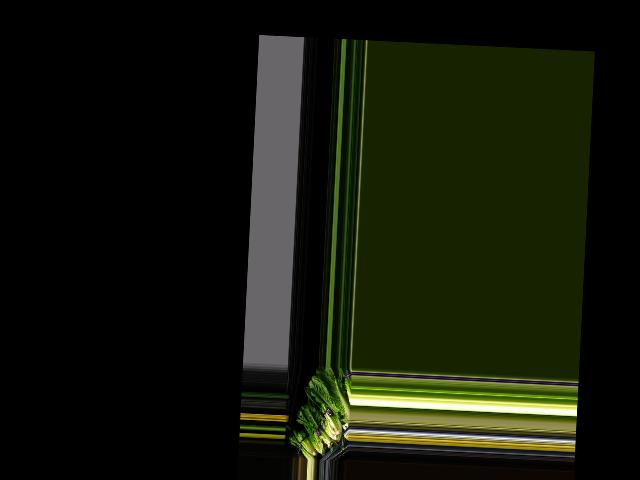lettuce: (309, 366, 349, 422)
